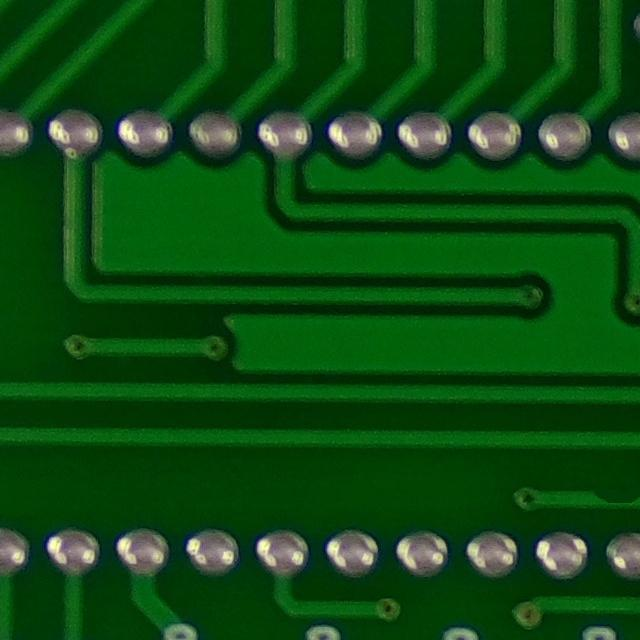mouse_bite: (579, 477, 640, 519)
